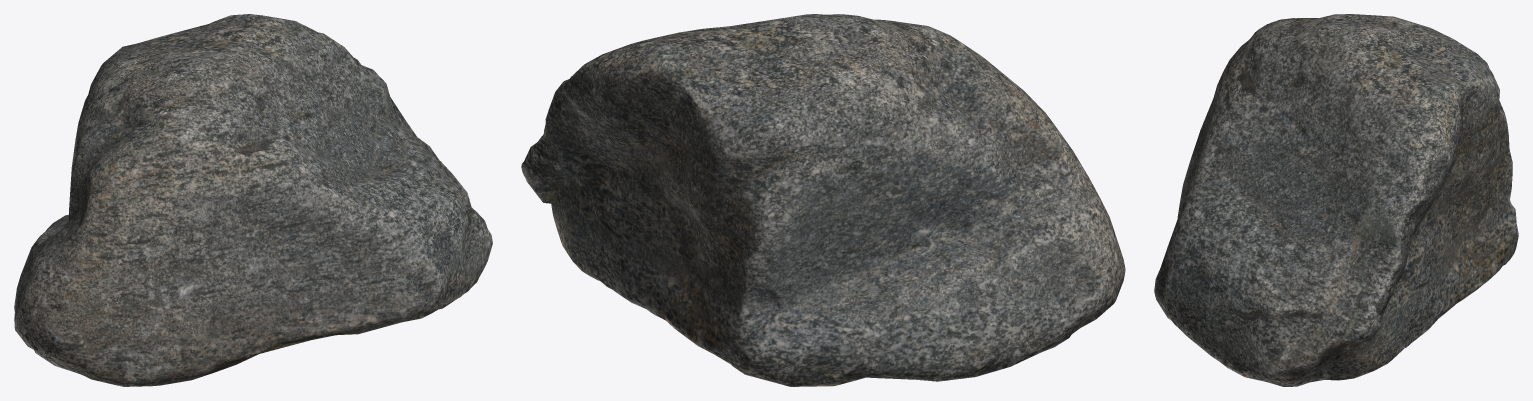
The model's file is SM_whhlfek_tier_2.gltf.
The picture shows the model from 3 angles, left to right: view 1: azimuth 30°, elevation 25°; view 2: azimuth 150°, elevation 25°; view 3: azimuth 270°, elevation 25°; orthographic projection. The views are drawn at different scales.
Visible parts, largest first — view 1: whhlfek_LOD2_TIER2_000; view 2: whhlfek_LOD2_TIER2_000; view 3: whhlfek_LOD2_TIER2_000.
Boxes of the visible parts, box(x1,y1,x2,y2) form: whhlfek_LOD2_TIER2_000: box(14, 14, 492, 386); whhlfek_LOD2_TIER2_000: box(521, 14, 1125, 386); whhlfek_LOD2_TIER2_000: box(1154, 14, 1518, 386).
Bounding box in the file's own units: 0.2613 × 0.1368 × 0.1781.
Materials: 1 (1 with a texture image).
